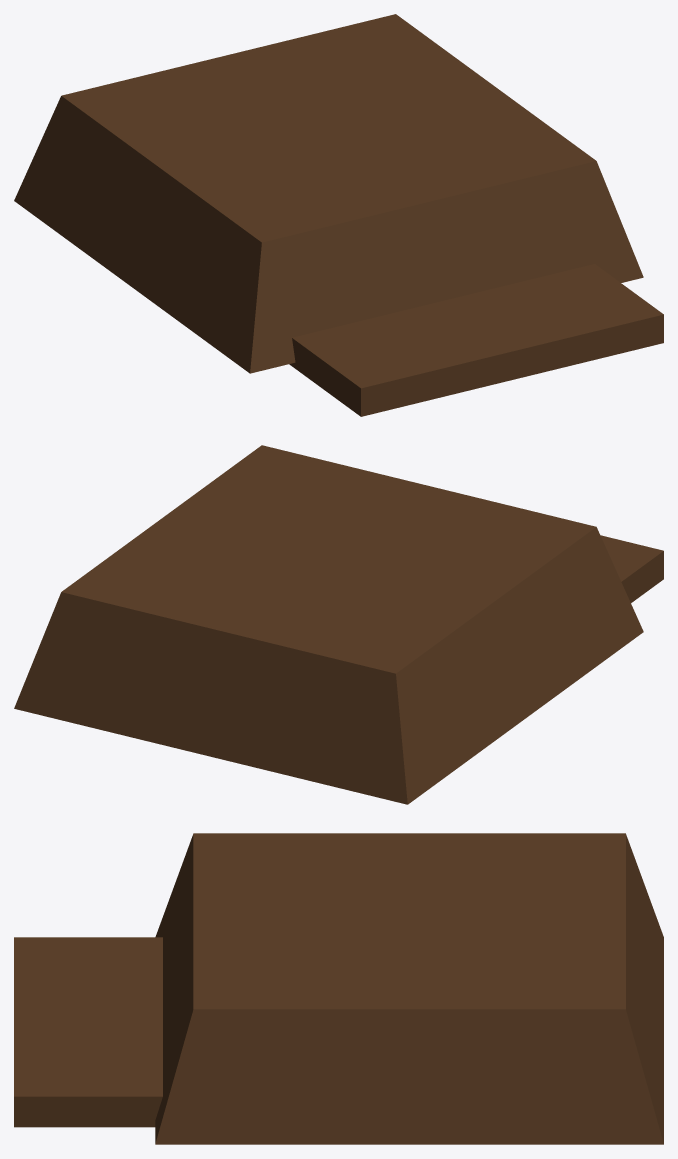
The model's file is hat_cap.glb.
3 renders of one model, top to bottom at view 1: azimuth 30°, elevation 25°; view 2: azimuth 150°, elevation 25°; view 3: azimuth 270°, elevation 25°, orthographic. The views are drawn at different scales.
Parts seen in each view (by area): view 1: cap; view 2: cap; view 3: cap.
Boxes of the visible parts, box(x1,y1,x2,y2) form: cap: box(14, 14, 663, 416); cap: box(14, 445, 663, 804); cap: box(14, 833, 663, 1144).
Size of the model in its own units: 0.26 by 0.074 by 0.345.
